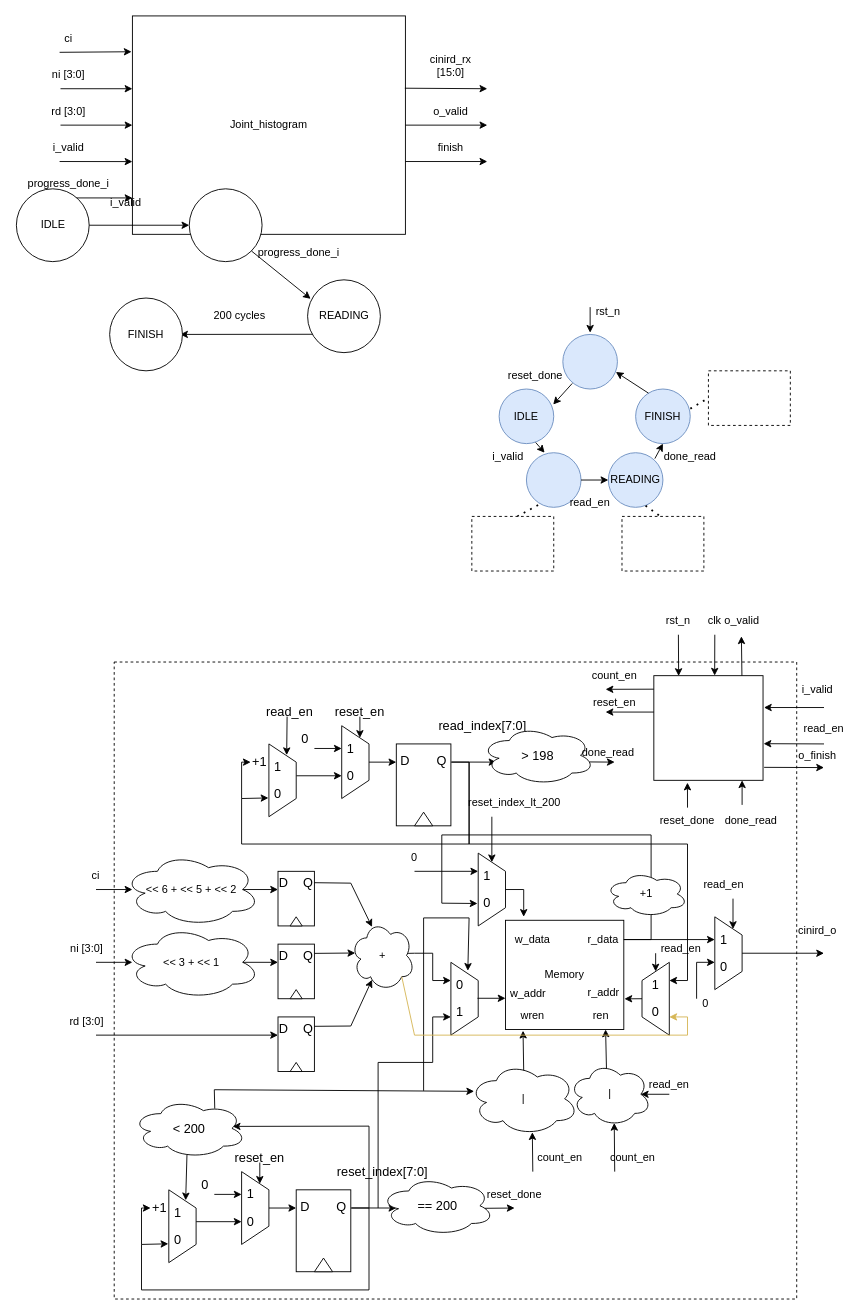
The diagram is 866 pixels wide and 1315 high, and some of its shapes have lost their labels. The centre of each missing label's shape, as x and y in pixels:
Controller: (708,727)
count_en = 1'b1: (512,543)
COUNTING: (225,225)
COUTING: (553,479)
o_valid = 1'b1: (662,543)
o_valid = 1'b1 o_finish = 1'b1 reset_en = 1'b1: (749,397)
RESET: (589,361)
